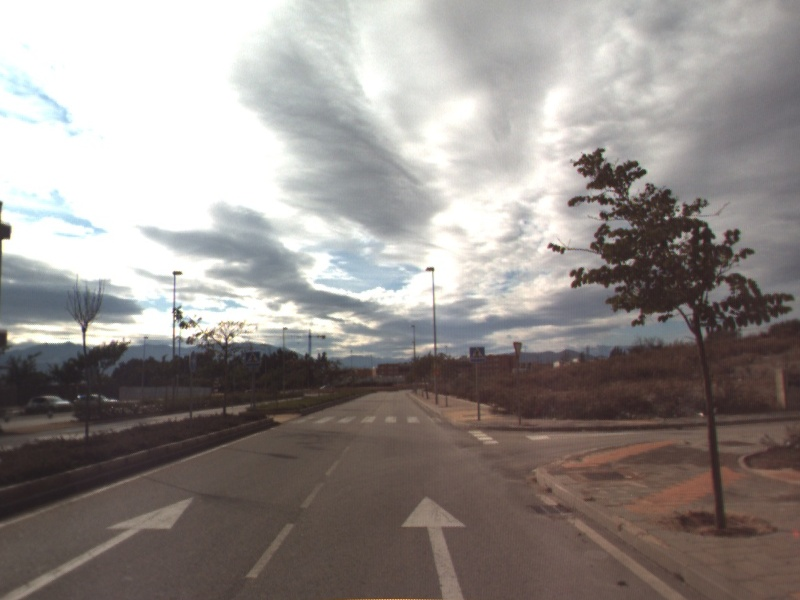STRAIGHT: (1, 494, 196, 600), (399, 493, 469, 600)
